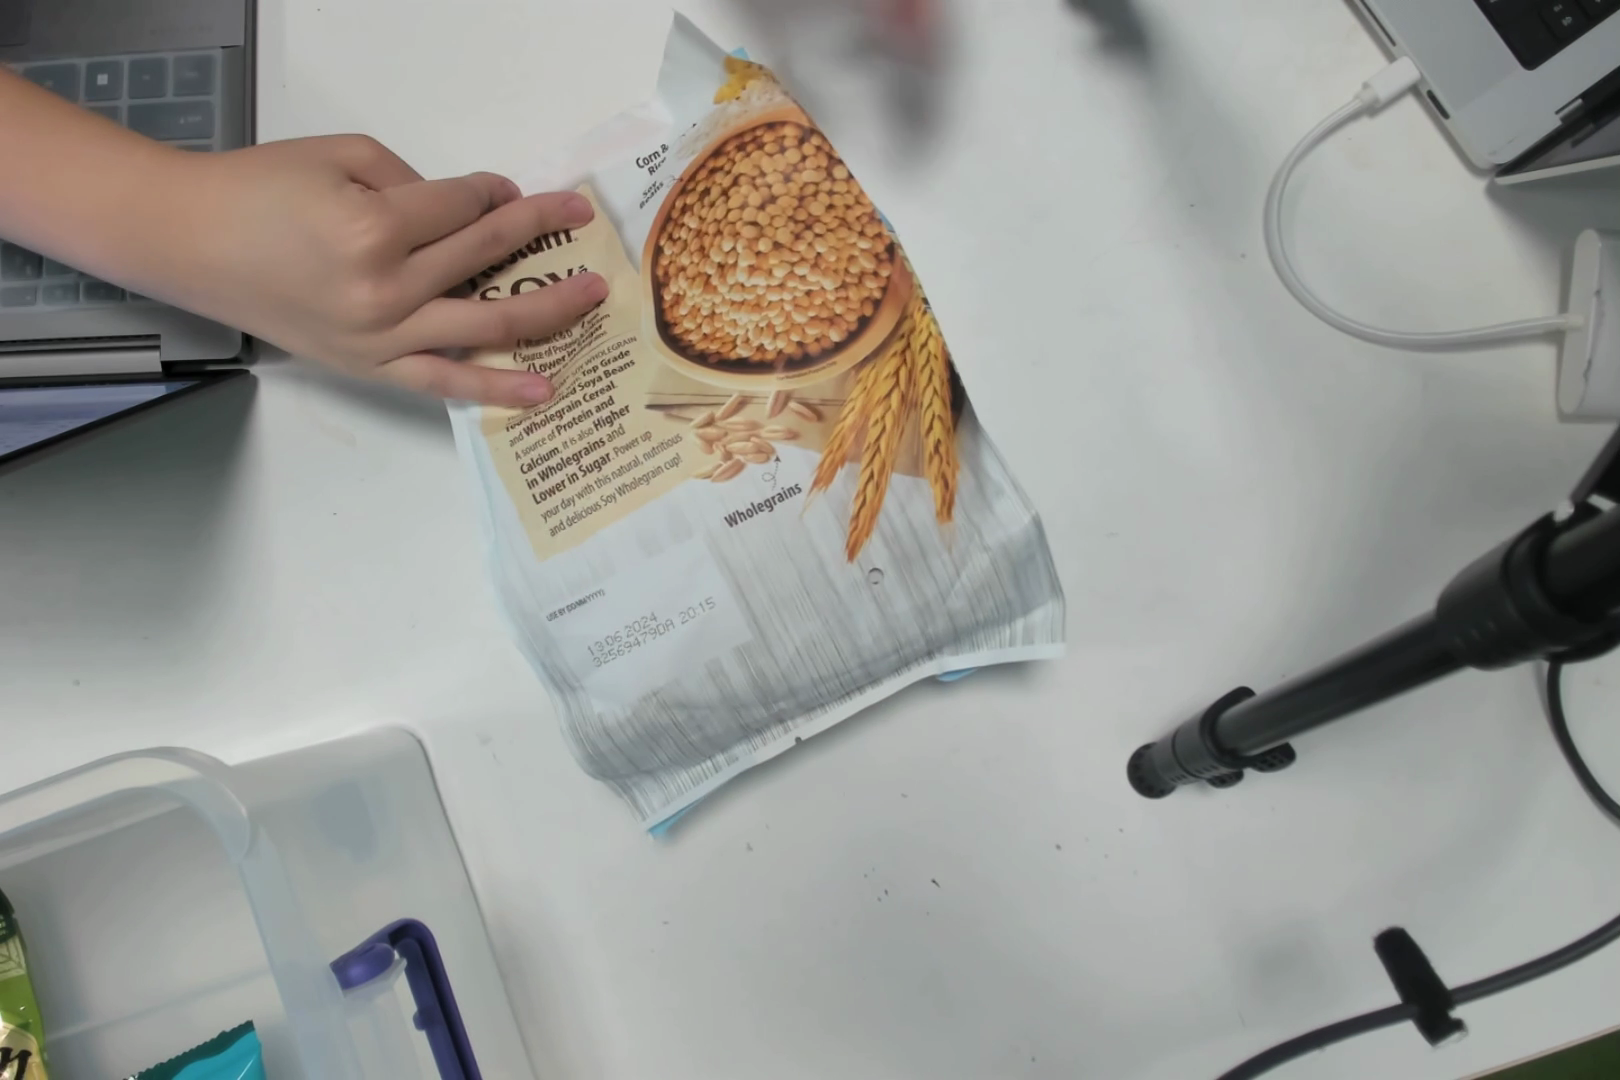e: (503, 177, 967, 642)
